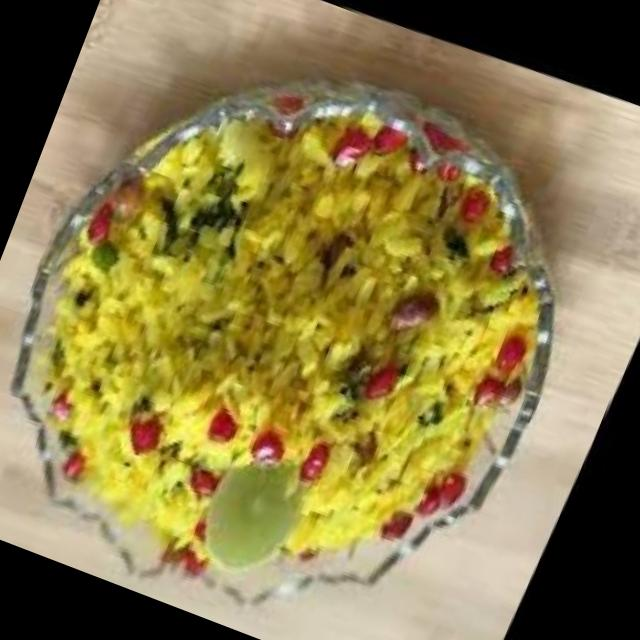poha: (0, 21, 612, 640)
